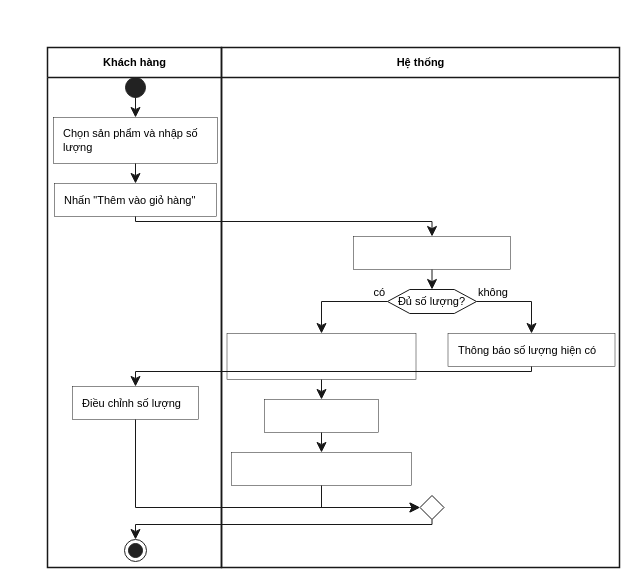
The diagram is 637 pixels wide and 585 high, and some of its shapes have lost their labels. The shapes that lost their labels are listed below. From the top down, each one's centre as x and y in pixels, then its label:
At point (431, 252): "Kiểm tra số lượng tồn kho".
At point (321, 356): "Thêm hoặc cập nhật chi tiết giỏ hàng".
At point (321, 415): "Tính lại tổng tiền".
At point (321, 468): "Hiển thị giỏ hàng đã cập nhật".
